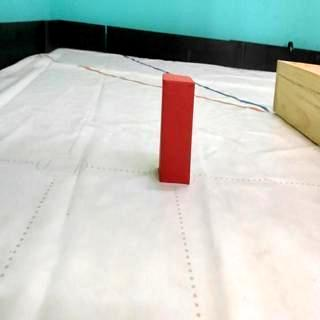redbox: (160, 73, 193, 184)
